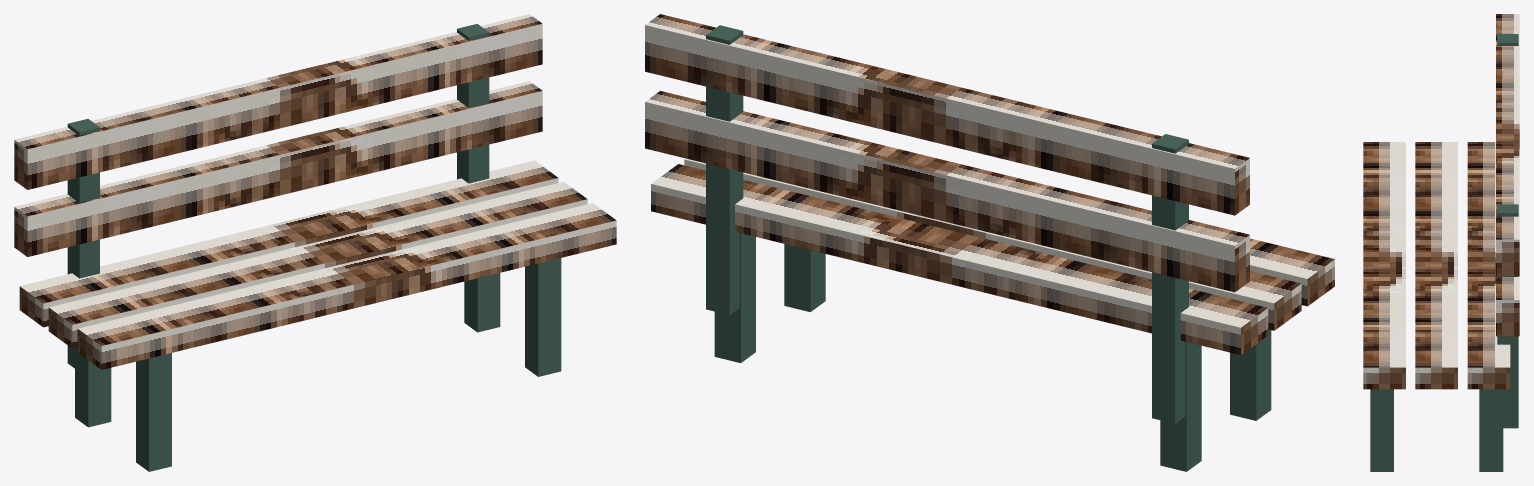
File: bench.glb
3 renders of one model, left to right at view 1: azimuth 30°, elevation 25°; view 2: azimuth 150°, elevation 25°; view 3: azimuth 270°, elevation 25°, orthographic. The views are drawn at different scales.
Visible parts, largest first — view 1: bench_p9_wood, bench_p9_iron; view 2: bench_p9_wood, bench_p9_iron; view 3: bench_p9_wood, bench_p9_iron.
Part boxes in pixels (box(x1,y1,x2,y2)): bench_p9_wood: box(14, 14, 616, 369); bench_p9_iron: box(67, 23, 561, 471); bench_p9_wood: box(645, 14, 1334, 354); bench_p9_iron: box(706, 25, 1271, 471); bench_p9_wood: box(1363, 14, 1519, 389); bench_p9_iron: box(1370, 34, 1518, 471).
Size of the model in its own units: 2.25 by 1.2 by 0.66.
2 materials, 1 textured.
